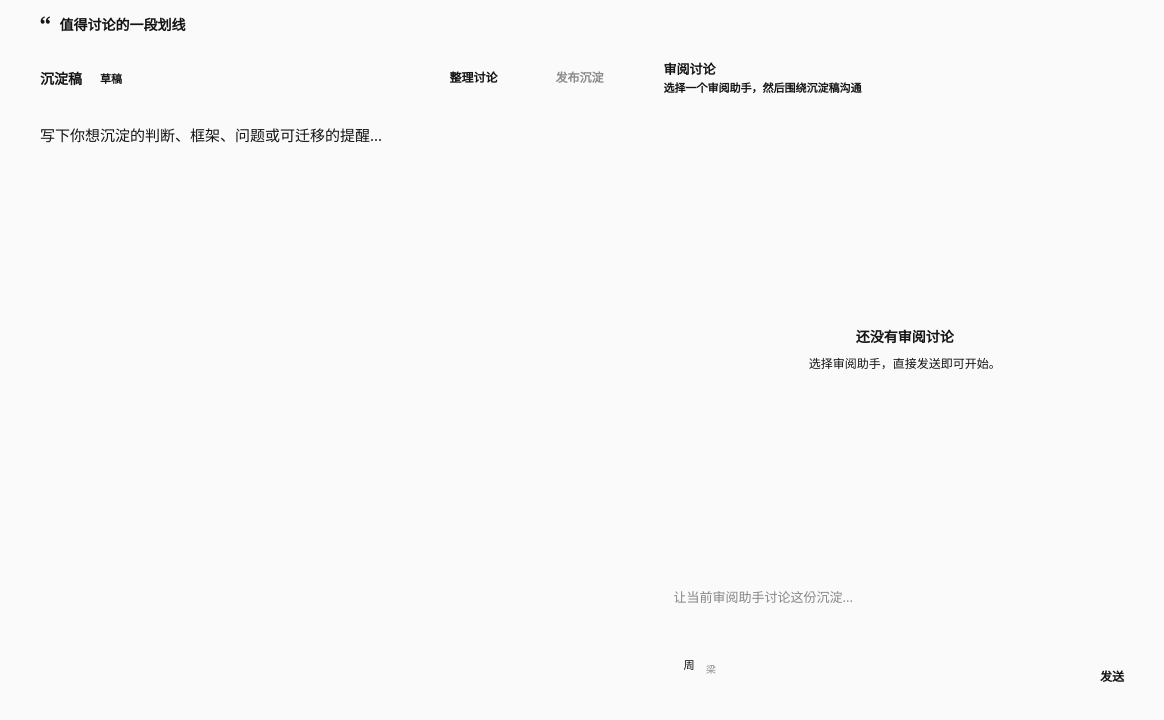
annotation distillation UI › prevents publishing while a review is still running
Check: the text "沉淀稿" is shown, box x1=40 y1=68 x2=82 y2=88
Type "正在审阅的沉淀稿" into the text box with placeholder "写下你想沉淀的判断、框架、问题或可迁移的提醒...".
click(329, 412); type("正在审阅的沉淀稿")  # box x1=12 y1=104 x2=646 y2=719
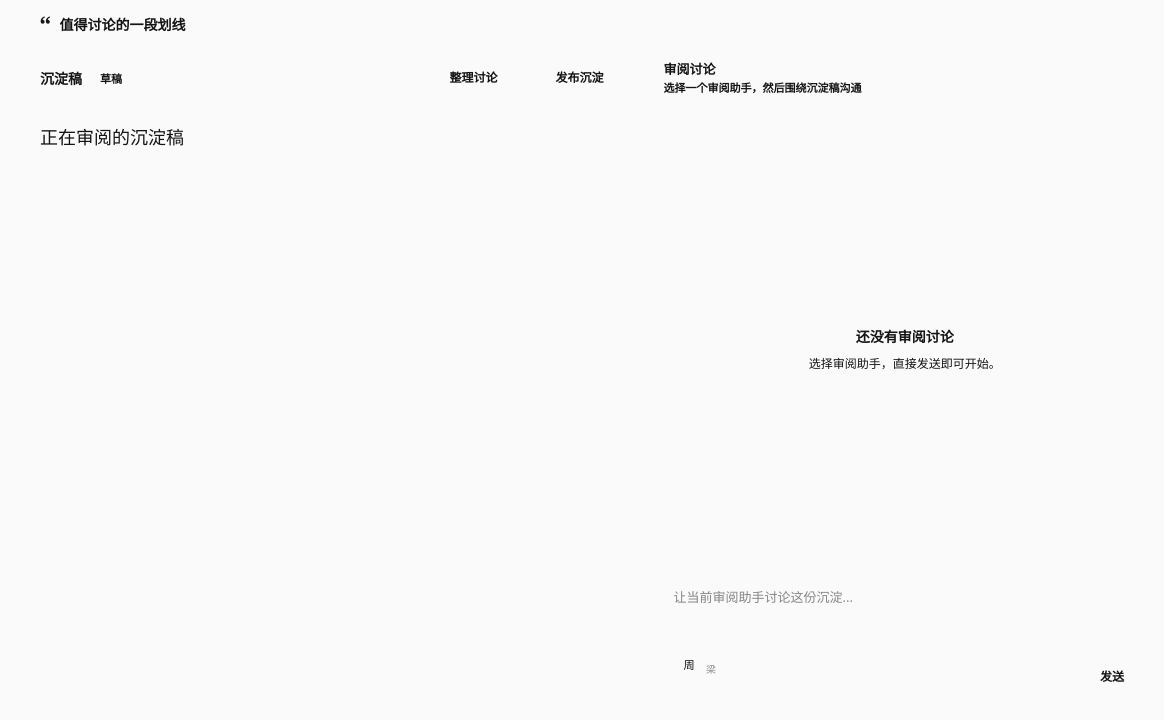
Click the button "发送".
click(1102, 677)  # box x1=1068 y1=662 x2=1136 y2=692
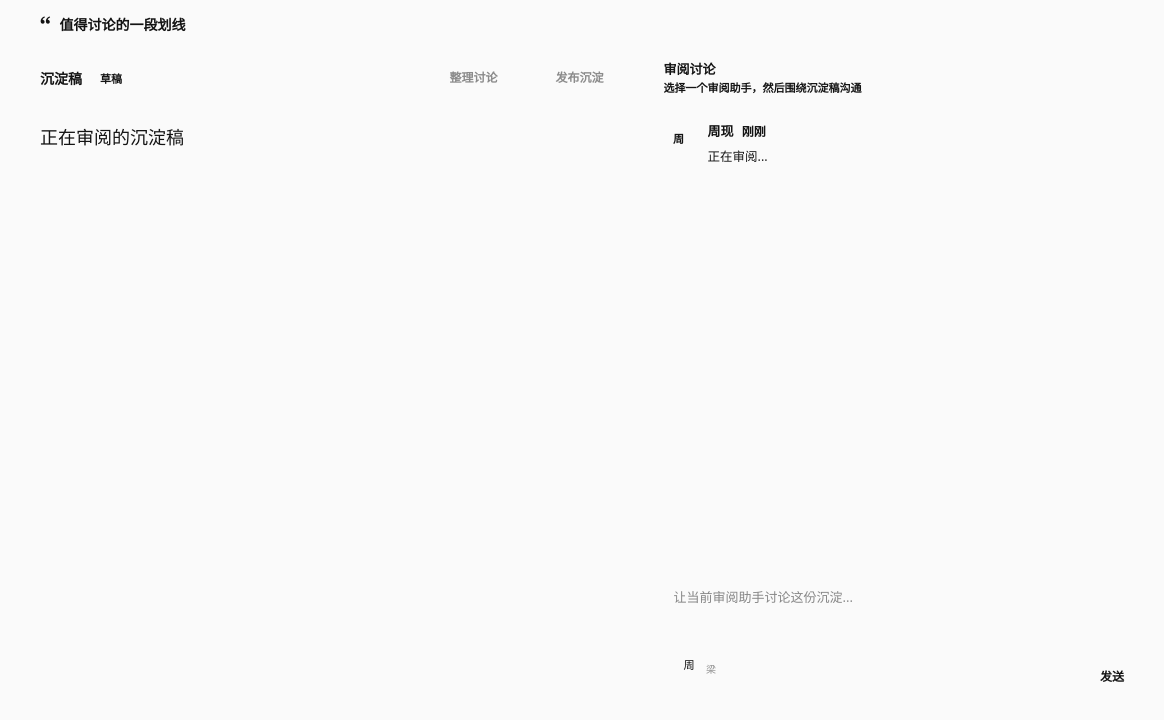
Check: the button "发布沉淀" is disabled, box x1=520 y1=58 x2=618 y2=98
